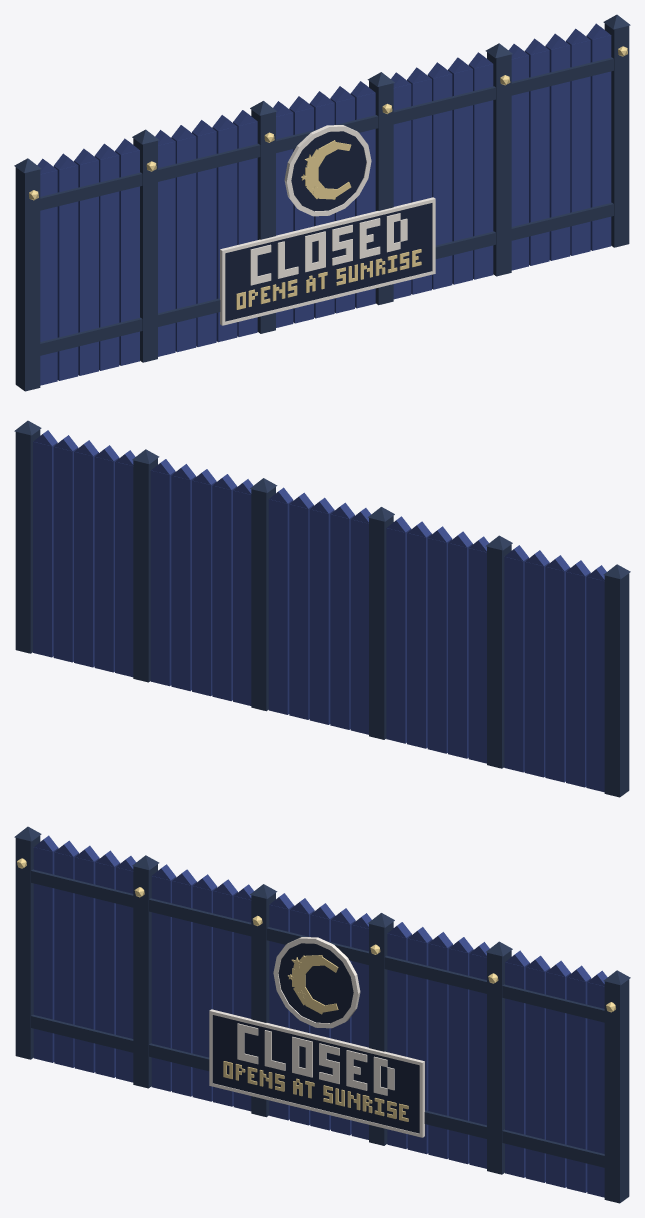
The model's file is CatCafe_Neighbourhood_NightFence.glb.
The picture shows the model from 3 angles, top to bottom: view 1: azimuth 30°, elevation 25°; view 2: azimuth 150°, elevation 25°; view 3: azimuth 330°, elevation 25°; orthographic projection.
Visible parts, largest first — view 1: CatCafe_Neighbourhood_NightFence, CatCafe_Neighbourhood_NightFence_Moon_Bulb; view 2: CatCafe_Neighbourhood_NightFence; view 3: CatCafe_Neighbourhood_NightFence, CatCafe_Neighbourhood_NightFence_Moon_Bulb.
Boxes of the visible parts, x1,y1,x2,y2 form: CatCafe_Neighbourhood_NightFence: (14, 14, 630, 391); CatCafe_Neighbourhood_NightFence_Moon_Bulb: (29, 46, 627, 309); CatCafe_Neighbourhood_NightFence: (14, 420, 630, 797); CatCafe_Neighbourhood_NightFence: (14, 826, 630, 1203); CatCafe_Neighbourhood_NightFence_Moon_Bulb: (17, 858, 615, 1121).
Size of the model in its own units: 24.06 by 8.64 by 0.9251.
1 material, 1 textured.
